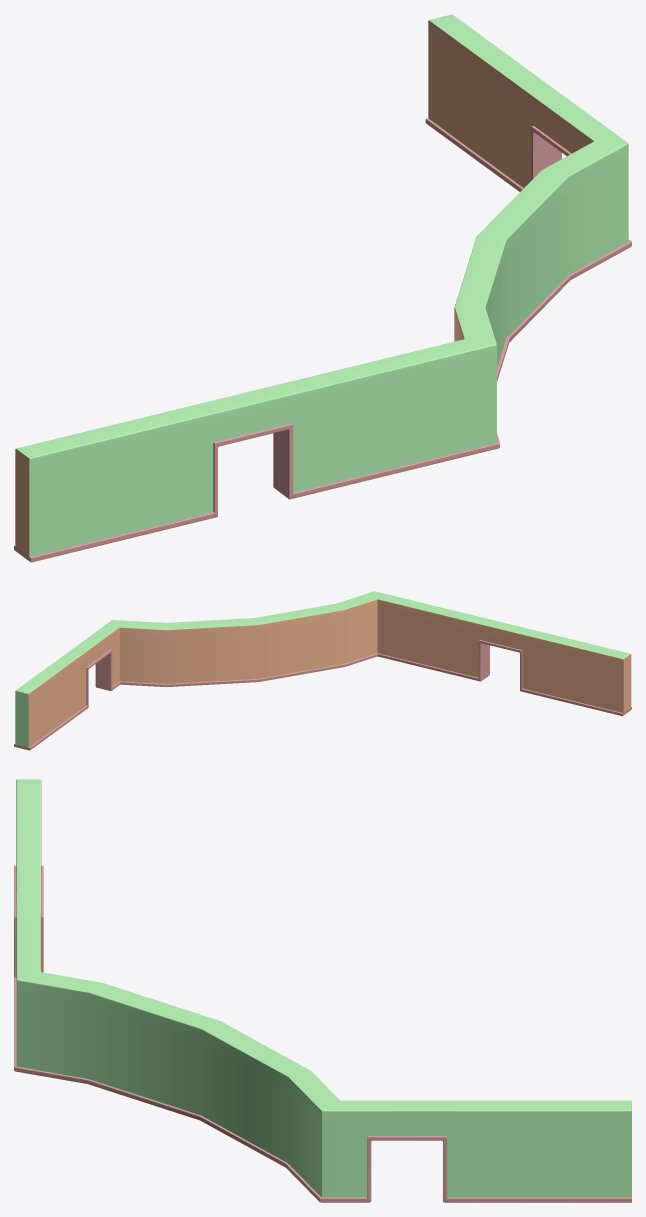
The model's file is InnerWall_1.fbx.
3 renders of one model, top to bottom at view 1: azimuth 30°, elevation 25°; view 2: azimuth 150°, elevation 25°; view 3: azimuth 270°, elevation 25°, orthographic. The views are drawn at different scales.
Parts seen in each view (by area): view 1: polySurface54; view 2: polySurface54; view 3: polySurface54.
Boxes of the visible parts, x1,y1,x2,y2 form: polySurface54: [14, 14, 631, 562]; polySurface54: [14, 591, 631, 750]; polySurface54: [14, 779, 631, 1202].
Bounding box in the file's own units: 31.81 × 4.06 × 24.96.
